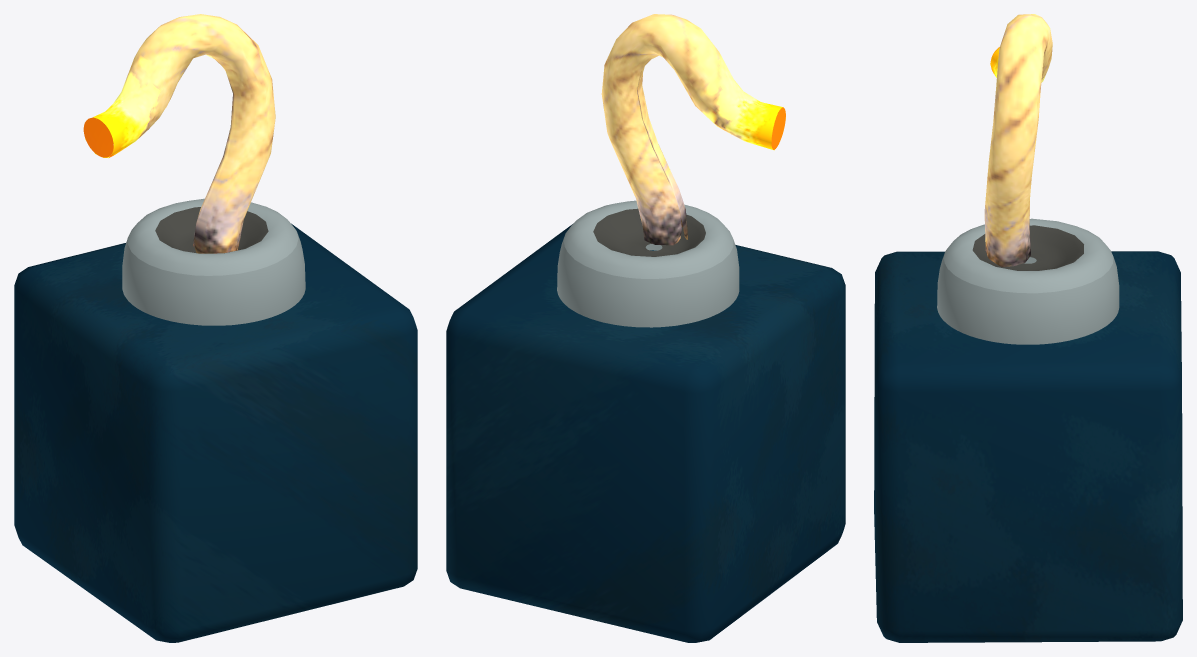
The model's file is bomb.glb.
3 renders of one model, left to right at view 1: azimuth 30°, elevation 25°; view 2: azimuth 150°, elevation 25°; view 3: azimuth 270°, elevation 25°, orthographic.
Parts seen in each view (by area): view 1: bomb; view 2: bomb; view 3: bomb.
Boxes of the visible parts, left/top/right/bottom form: bomb: left=14, top=14, right=417, bottom=642; bomb: left=446, top=14, right=845, bottom=642; bomb: left=874, top=14, right=1182, bottom=642.
Size of the model in its own units: 0.8428 by 1.67 by 0.8432.
1 material, 1 textured.
